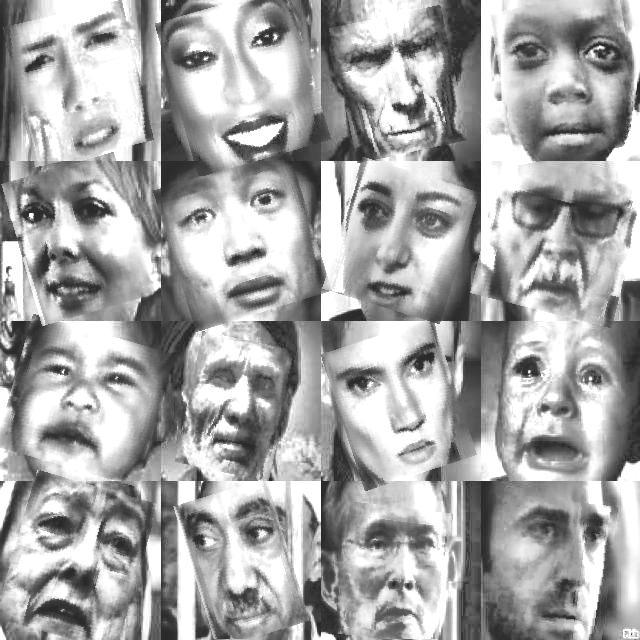angry: (495, 0, 638, 160), (330, 326, 468, 484), (330, 165, 470, 317), (336, 10, 462, 158)
happy: (164, 0, 321, 168), (10, 159, 145, 319)
sad: (163, 158, 323, 324), (3, 323, 167, 479), (478, 162, 638, 321), (3, 477, 148, 640), (11, 6, 147, 162), (183, 483, 299, 640), (498, 329, 620, 475), (498, 497, 613, 640), (182, 336, 290, 478), (338, 504, 449, 640)
